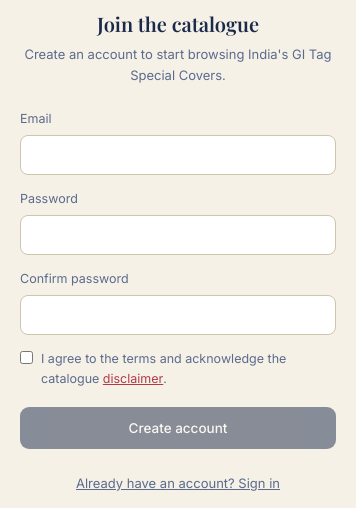
Test: Signup › submit is disabled until the disclaimer checkbox is checked — FR-23/FR-57
Step 1. Type "new@example.test" into the field labelled "Email" → (178, 155), box [20, 135, 336, 175]
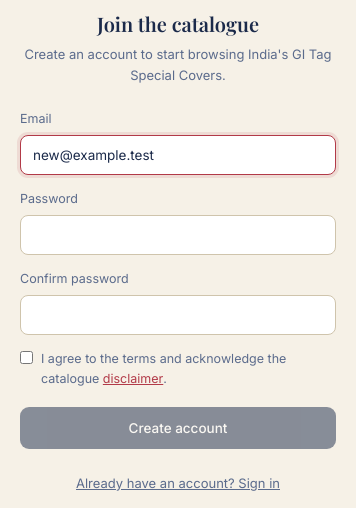
Step 2. Type "a-real-password" into the password field labelled "Password" → (178, 235), box [20, 215, 336, 255]
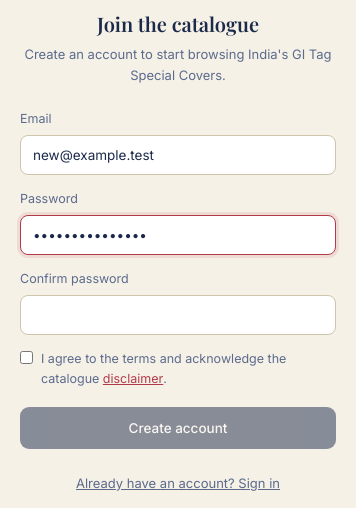
Step 3. Type "a-real-password" into the password field labelled "Confirm password" → (178, 315), box [20, 295, 336, 335]
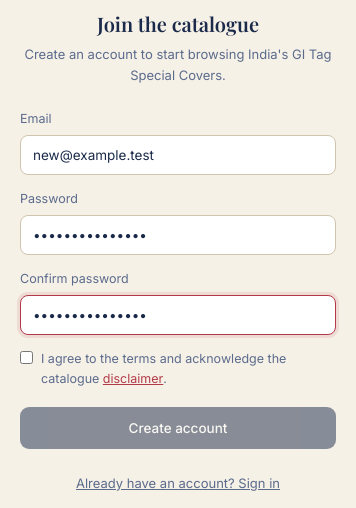
Expected: the button "Create account" is disabled, [20, 407, 336, 449]
Step 4. Click the checkbox → (26, 358), box [20, 351, 33, 364]
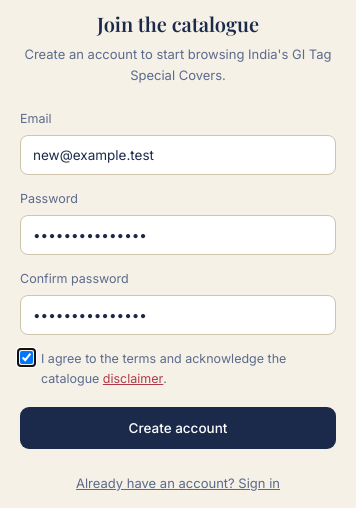
Now the button "Create account" is enabled, box [20, 407, 336, 449]
